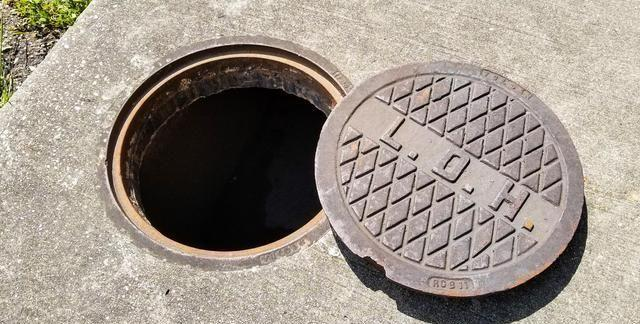wellcover: (99, 27, 619, 302)
